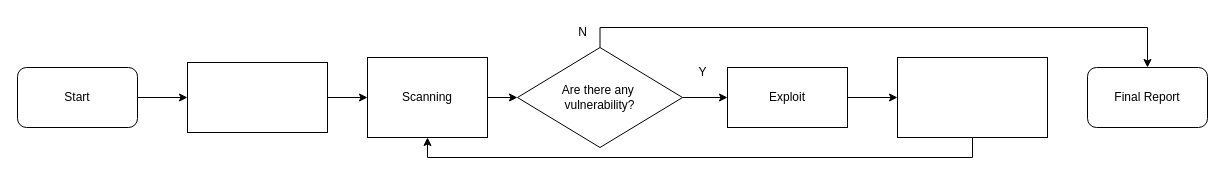
Some shapes in this 1225 by 183 pixel diagram are drawn without their labels. The box of each missing label's shape, as (x1, y1, x2, y2) in pixels:
Disclosure: (896, 56, 1048, 138)
Information Gathering: (186, 62, 328, 132)
